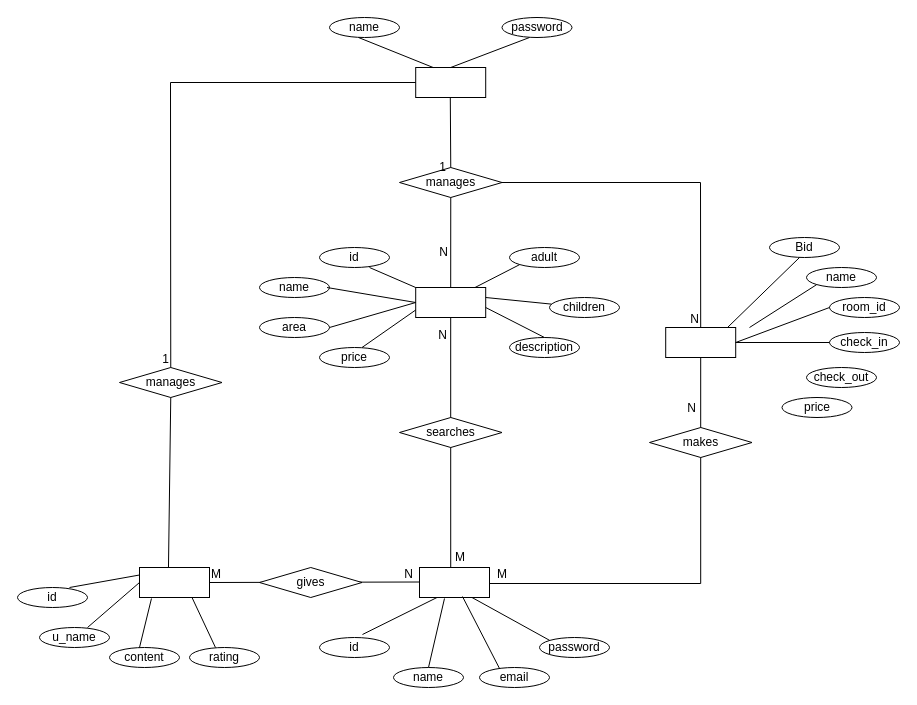
Image size: 917x705. Some labels were removed from this diagram. The shapes that lost their labels are listed below. From the top down, each one's centre as x and y in pixels, then its label:
At [450,82]: "Admin".
At [450,302]: "Room".
At [700,342]: "Bookings".
At [174,582]: "Reviews".
At [454,582]: "User".
